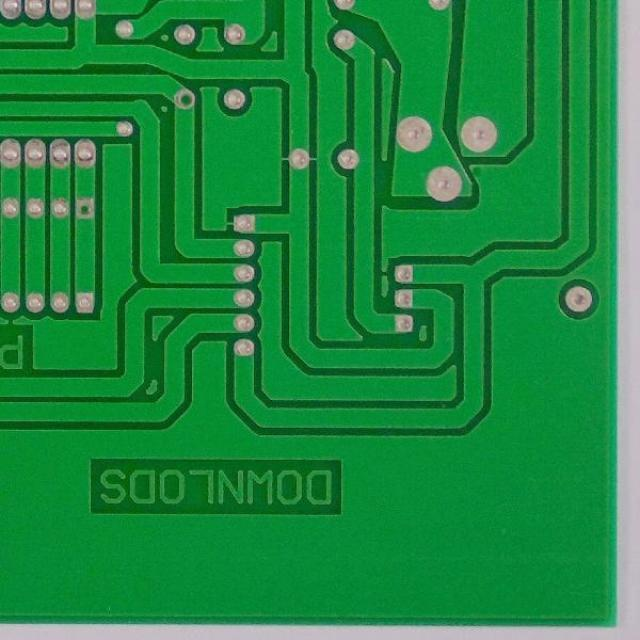Missing_Hole: (170, 86, 197, 109), (72, 198, 96, 220)
